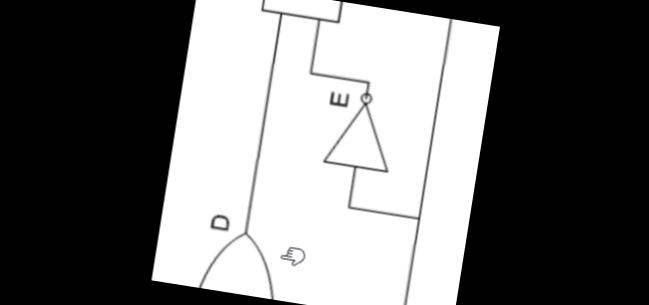and: (251, 0, 353, 27)
not: (316, 83, 402, 178)
or: (187, 219, 286, 299)
